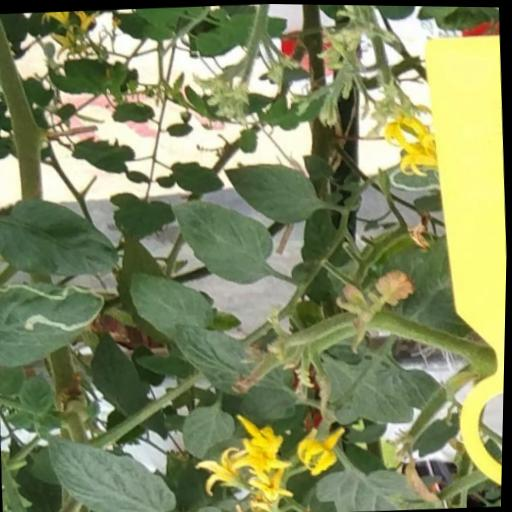Healthy: (40, 423, 187, 512), (165, 192, 279, 292), (0, 191, 120, 283), (217, 155, 325, 230), (127, 264, 219, 344), (182, 400, 239, 459)
Leaf_Miner: (0, 273, 113, 372)
